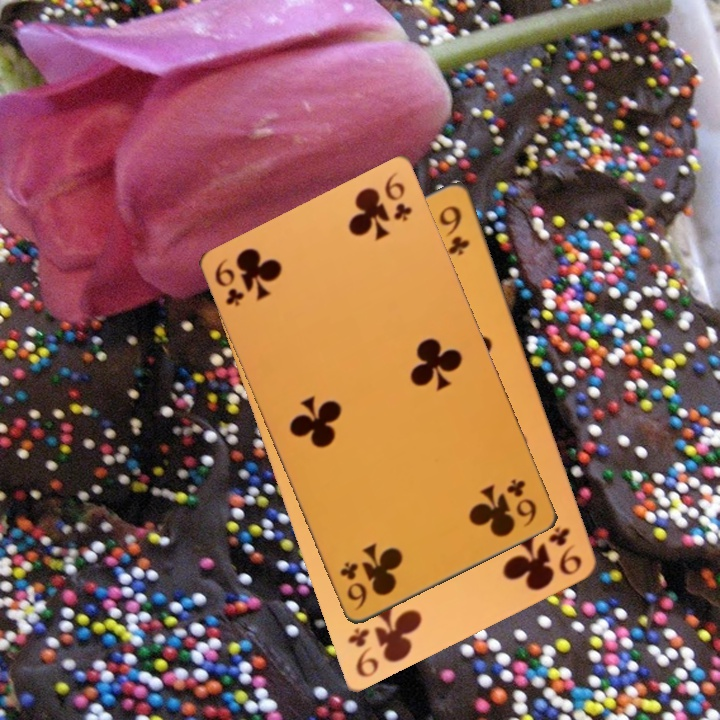6c: (504, 467, 547, 530), (334, 552, 377, 615), (209, 251, 252, 314), (379, 166, 422, 228)
